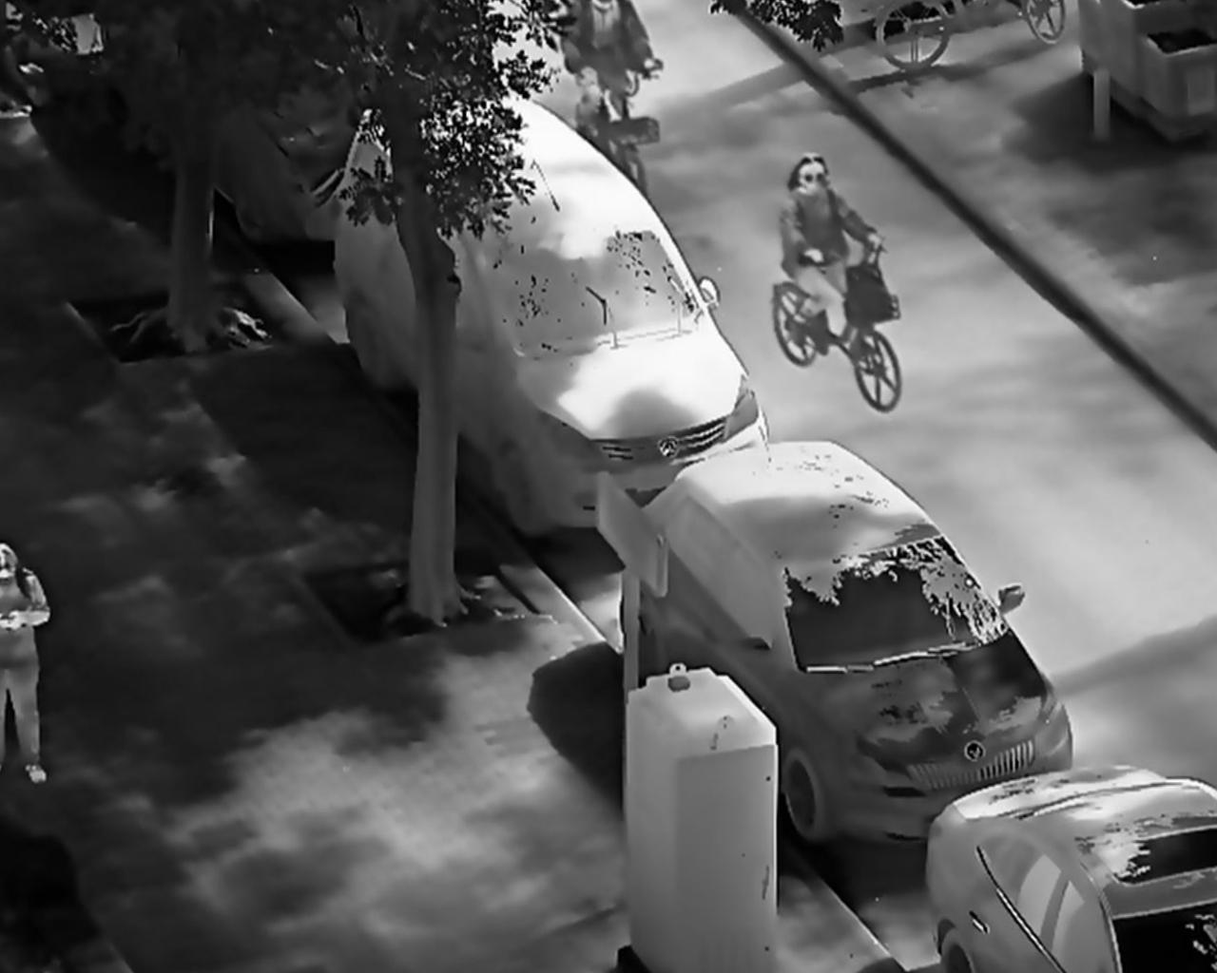person: (779, 148, 889, 357)
